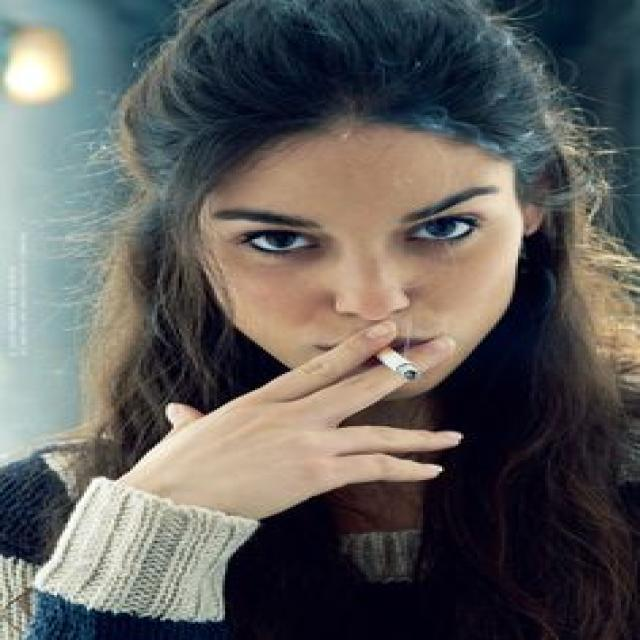rokok: (378, 346, 418, 378)
